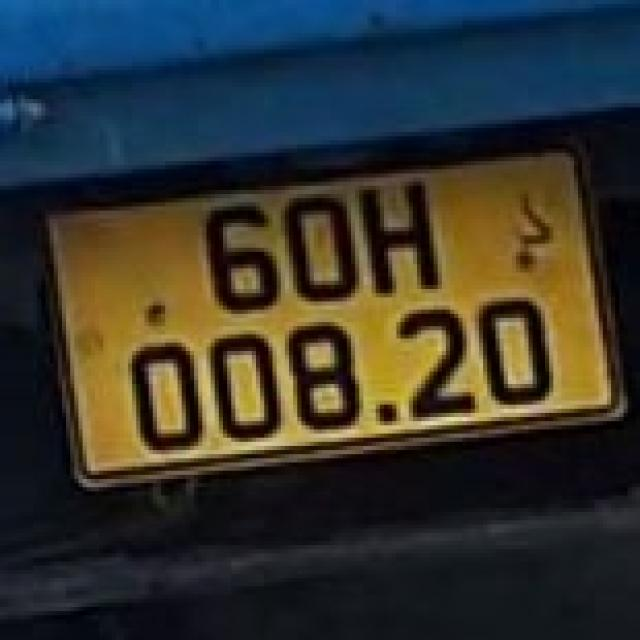0: (476, 292, 560, 406), (206, 331, 284, 446), (128, 340, 208, 452), (283, 192, 360, 306)
2: (396, 308, 478, 418)
6: (204, 202, 283, 316)
8: (282, 318, 366, 432)
H: (359, 178, 445, 298)
